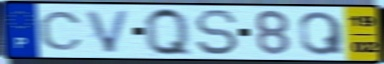8: (254, 9, 291, 57)
C: (37, 10, 86, 52)
Q: (142, 6, 196, 58), (297, 10, 347, 58)
S: (192, 8, 240, 57)
V: (83, 8, 134, 54)
